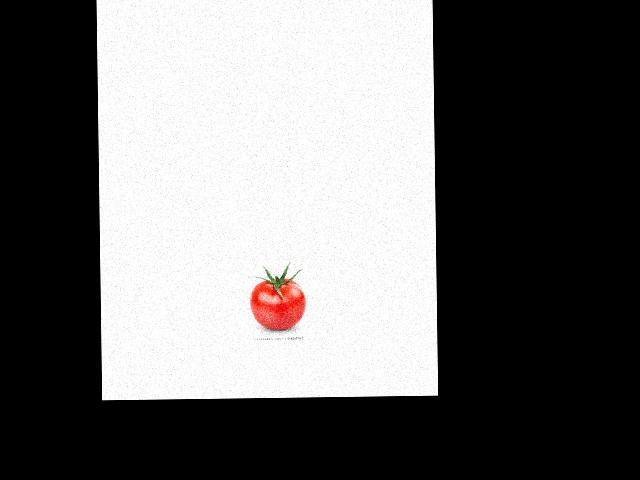tomato: (250, 278, 306, 329)
